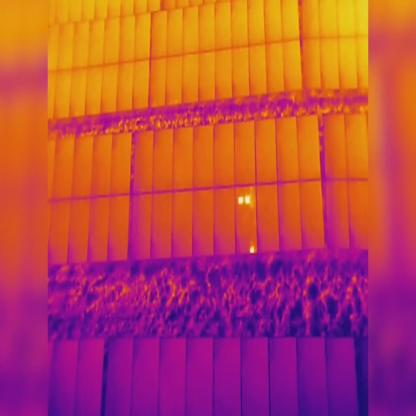hotspot: (250, 244, 256, 256), (245, 194, 250, 204), (238, 195, 243, 204)
